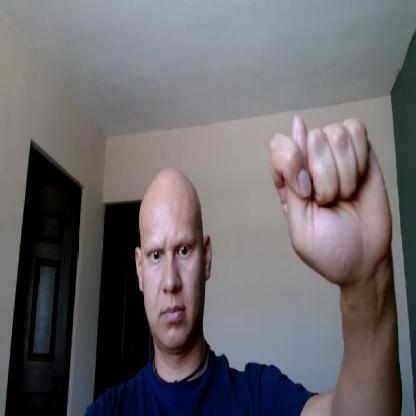T: (267, 111, 396, 283)
